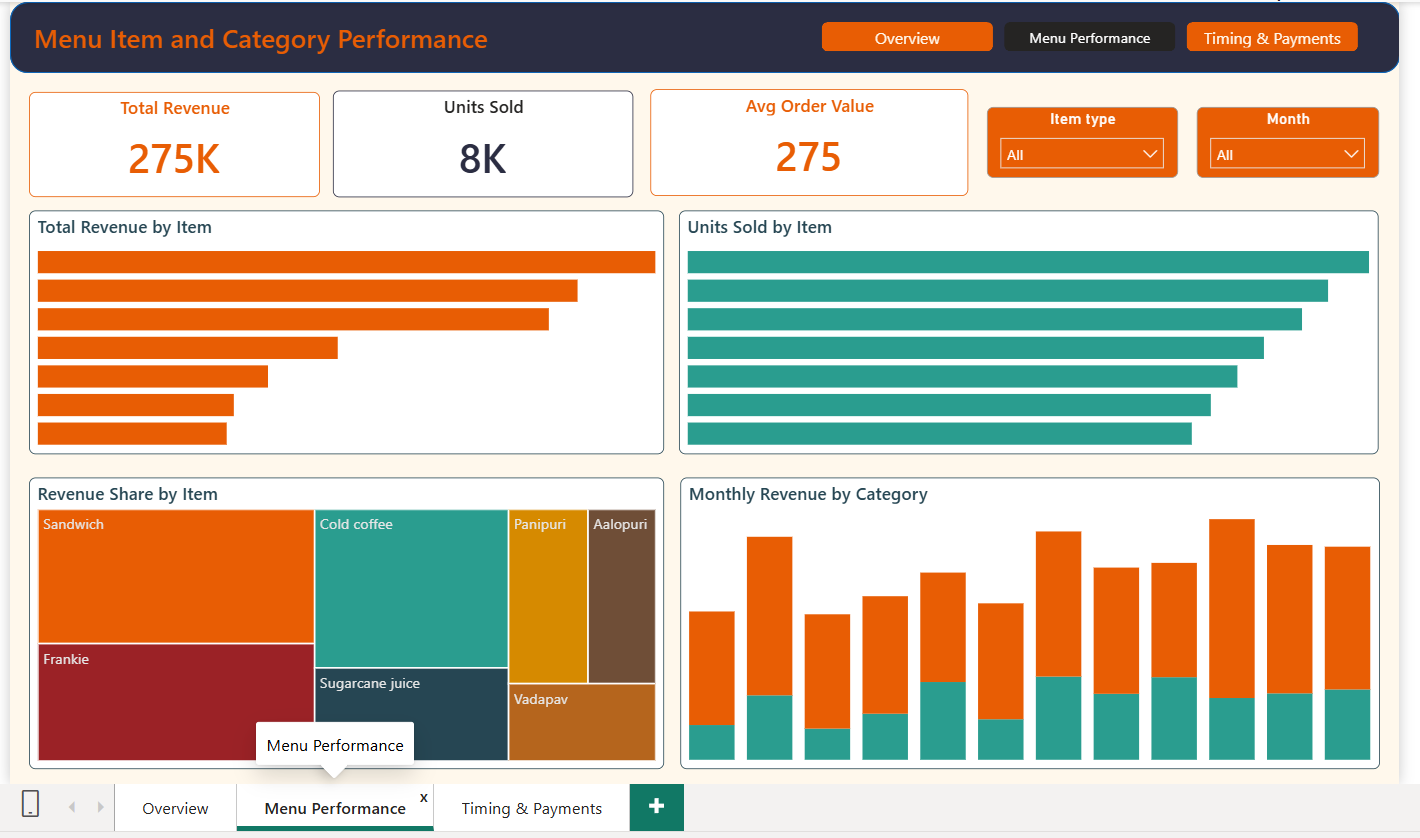

What the dashboard file says about the page in this screenshot:
{"tool":"powerbi","page":{"name":"Menu Performance","canvas":[1280,720],"ordinal":1},"visuals":[{"type":"shape","box":[0,0,1280.4,65.6],"z":0},{"type":"slicer","title":"Item type","fields":{"Values":["restaurent vw_sales.item_type"]},"box":[899.9,97.1,175.8,65.6],"z":1000},{"type":"slicer","title":"Month","fields":{"Values":["Dim_Date.Month"]},"box":[1092.8,97.1,167.9,65.6],"z":2000},{"type":"cardVisual","title":"Total Revenue","fields":{"Data":["restaurent vw_sales.Total Revenue"]},"box":[17.1,82.6,267.6,97.1],"z":3000},{"type":"cardVisual","title":"Units Sold","fields":{"Data":["restaurent vw_sales.Units Sold"]},"box":[297.8,81.3,276.8,98.4],"z":4000},{"type":"cardVisual","title":"Avg Order Value","fields":{"Data":["restaurent vw_sales.Avg Order Value"]},"box":[590.3,80,292.5,98.4],"z":5000},{"type":"clusteredBarChart","title":"Total Revenue by Item","fields":{"Category":["restaurent vw_sales.item_name"],"Y":["restaurent vw_sales.Total Revenue"]},"box":[17.1,191.5,585.1,224.3],"z":6000},{"type":"clusteredBarChart","title":"Units Sold by Item","fields":{"Category":["restaurent vw_sales.item_name"],"Y":["restaurent vw_sales.Units Sold"]},"box":[616.6,191.5,644.1,224.3],"z":7000},{"type":"treemap","title":"Revenue Share by Item","fields":{"Group":["restaurent vw_sales.item_name"],"Values":["restaurent vw_sales.Total Revenue"]},"box":[17.1,438.2,585.1,268.9],"z":8000},{"type":"columnChart","title":"Monthly Revenue by Category","fields":{"Category":["Dim_Date.Month Year"],"Y":["restaurent vw_sales.Total Revenue"],"Series":["restaurent vw_sales.item_type"]},"box":[617.9,438.2,644.1,268.9],"z":9000},{"type":"textbox","title":"Menu Item and Category Performance","box":[7.9,15.7,447.3,32.8],"z":10000},{"type":"pageNavigator","box":[741.2,13.1,506.4,39.4],"z":11000}]}

Visuals, with their boxes on the page's 1280x720 design canvas (x1, y1, x2, y2). These are canvas units, not pixel positions in the 1420x838 screenshot, which may show the page scaled, cropped or inside an application window:
shape: bbox=[0, 0, 1280, 66]
"Item type" slicer: bbox=[900, 97, 1076, 163]
"Month" slicer: bbox=[1093, 97, 1261, 163]
"Total Revenue" cardVisual: bbox=[17, 83, 285, 180]
"Units Sold" cardVisual: bbox=[298, 81, 575, 180]
"Avg Order Value" cardVisual: bbox=[590, 80, 883, 178]
"Total Revenue by Item" clusteredBarChart: bbox=[17, 192, 602, 416]
"Units Sold by Item" clusteredBarChart: bbox=[617, 192, 1261, 416]
"Revenue Share by Item" treemap: bbox=[17, 438, 602, 707]
"Monthly Revenue by Category" columnChart: bbox=[618, 438, 1262, 707]
"Menu Item and Category Performance" textbox: bbox=[8, 16, 455, 48]
pageNavigator: bbox=[741, 13, 1248, 52]
